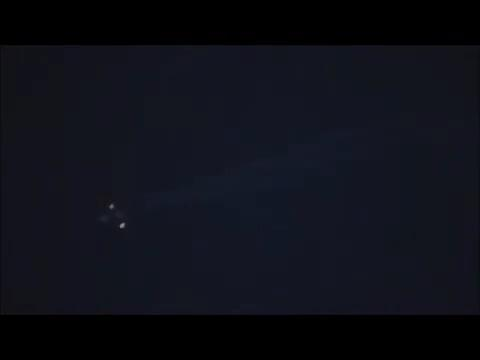Plane: (74, 190, 158, 238)
